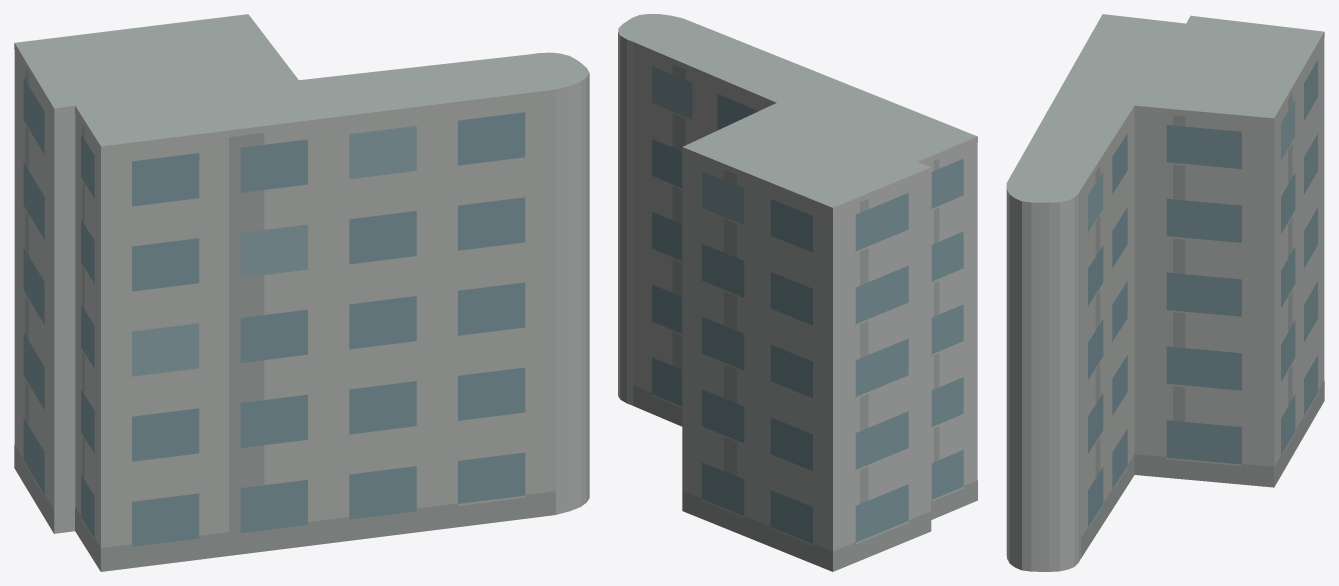
Rendered from survey-upis-32911188.glb.
The picture shows the model from 3 angles, left to right: view 1: azimuth 30°, elevation 25°; view 2: azimuth 150°, elevation 25°; view 3: azimuth 270°, elevation 25°; orthographic projection. The views are drawn at different scales.
Visible parts, largest first — view 1: survey-upis-32911188.tmp; view 2: survey-upis-32911188.tmp; view 3: survey-upis-32911188.tmp.
Part boxes in pixels (bbox=[...]): survey-upis-32911188.tmp: bbox=[14, 14, 589, 571]; survey-upis-32911188.tmp: bbox=[618, 14, 977, 571]; survey-upis-32911188.tmp: bbox=[1006, 14, 1324, 571].
Size of the model in its own units: 16.73 by 15.25 by 11.92.
